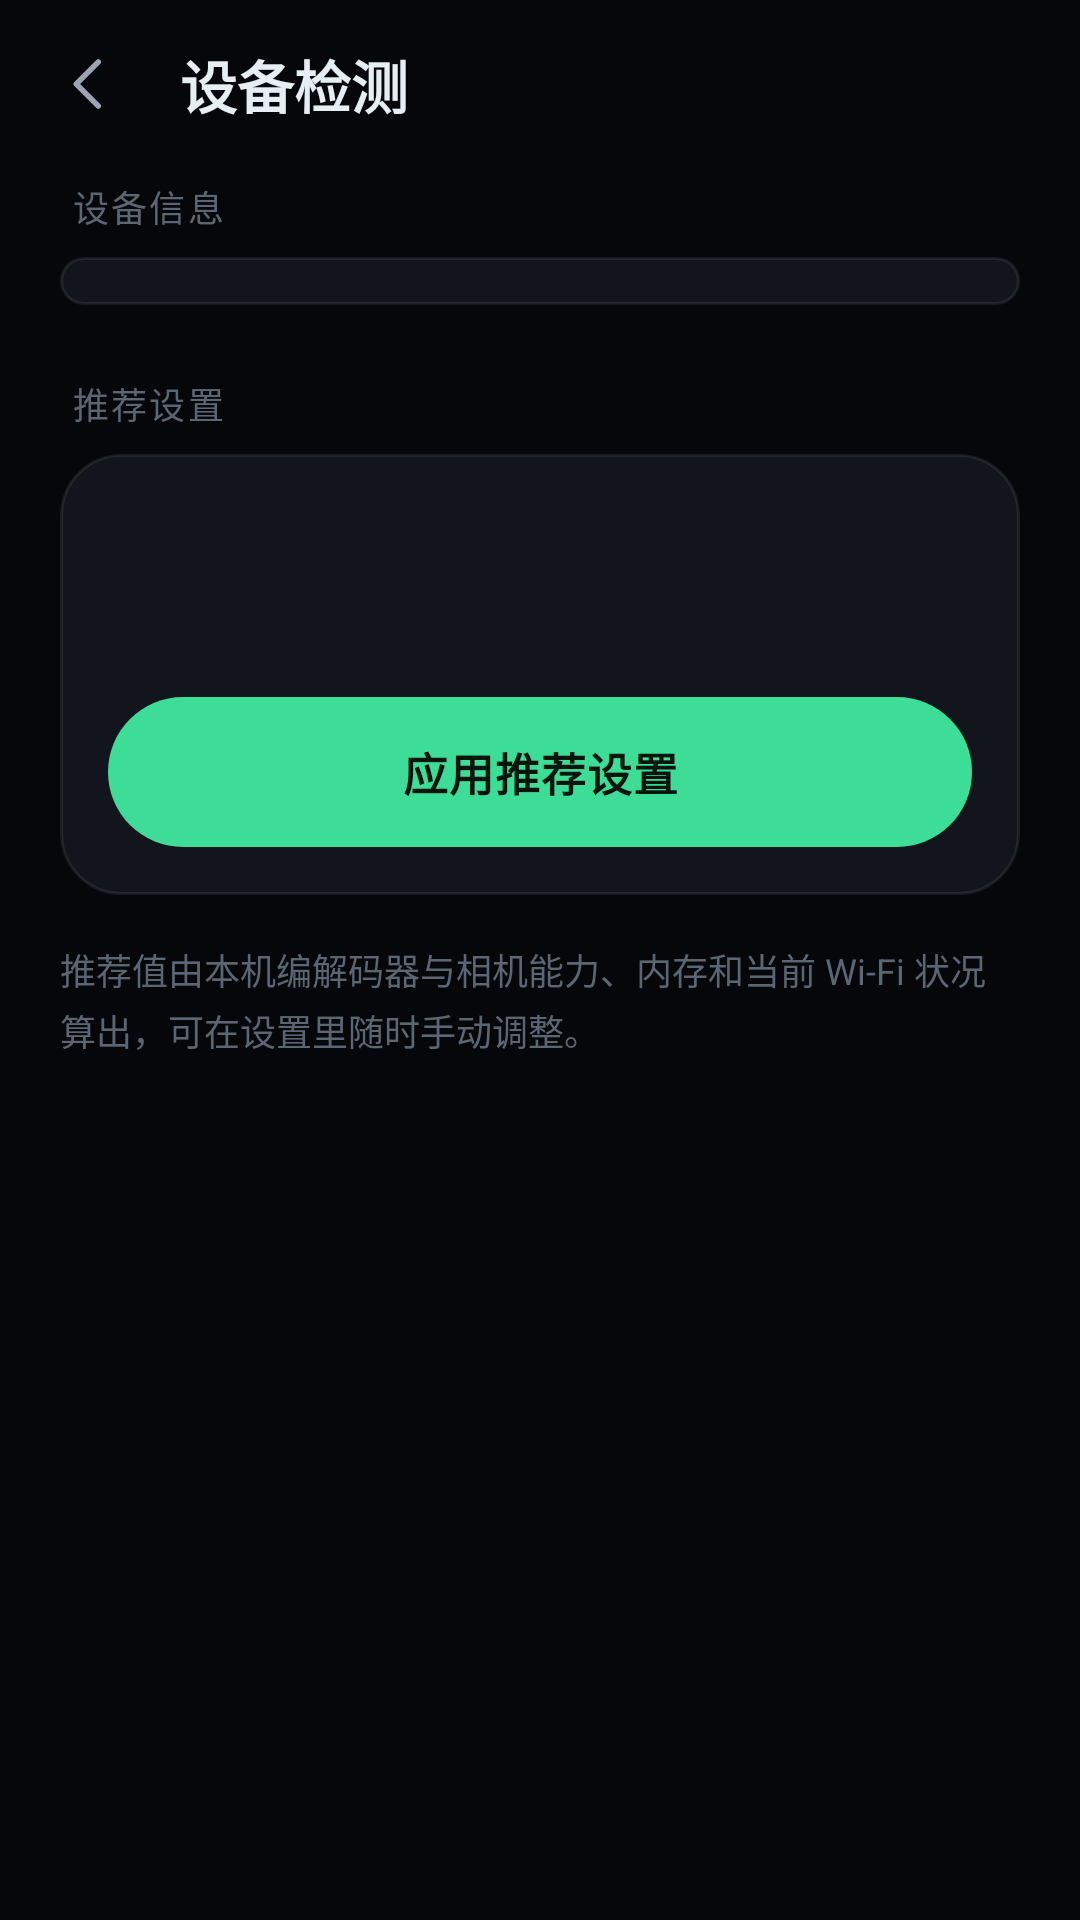

Named icons in this screenshot (1080 x 1920) and their bounding boxes, (x1, y1, x2, y2):
返回: (73, 59, 101, 109)
